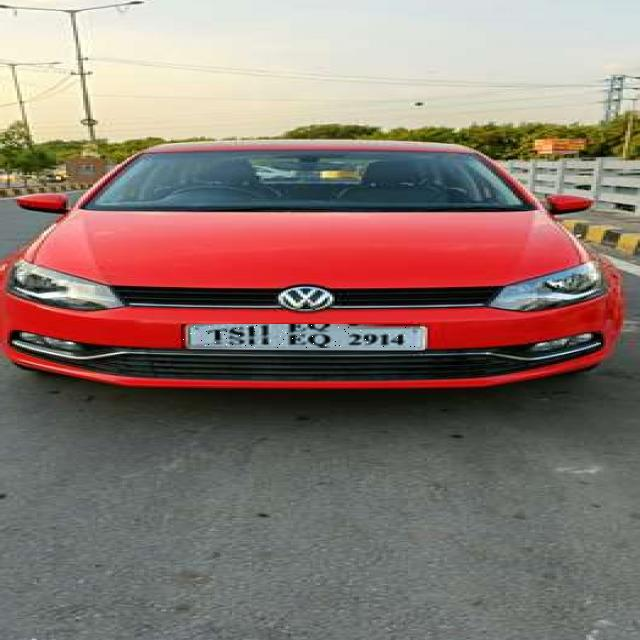Plate: (182, 326, 421, 350)
